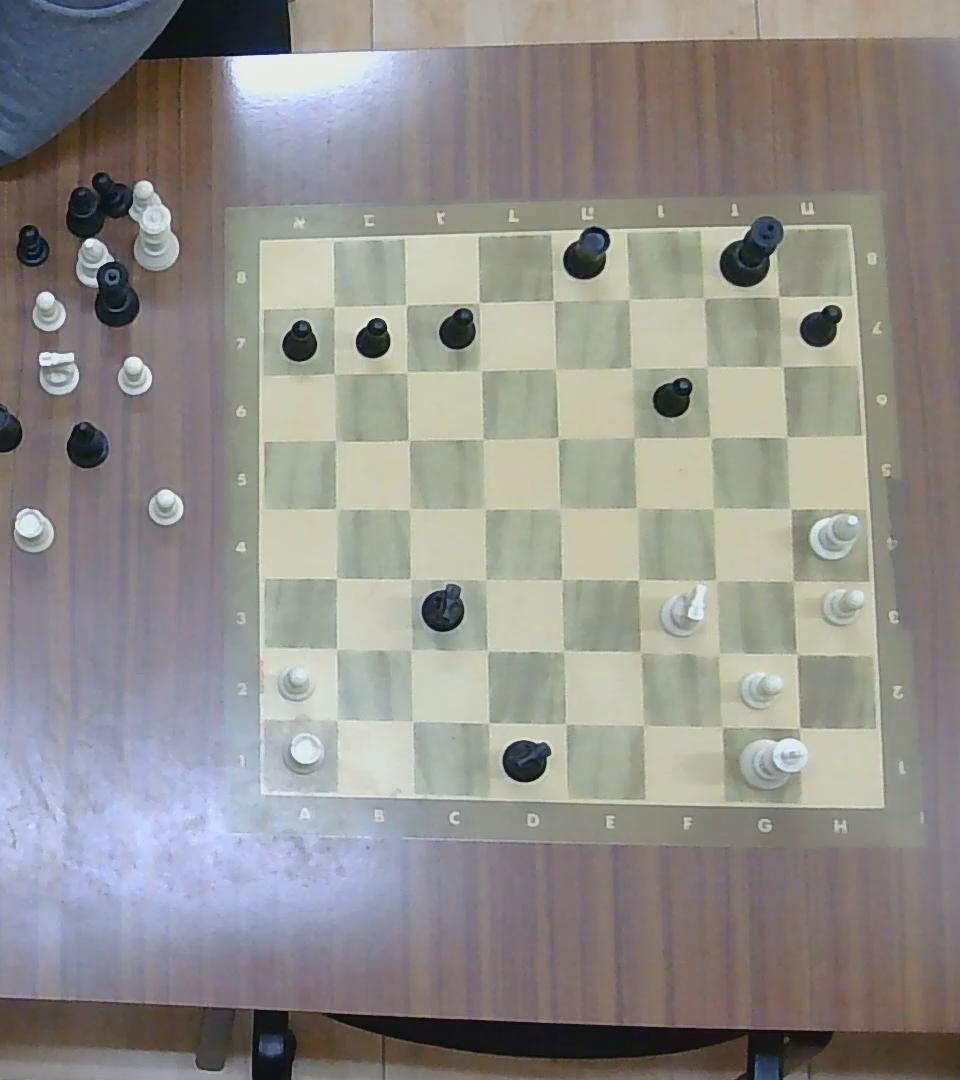xcorner: (781, 710, 815, 743), (701, 636, 735, 669), (705, 708, 736, 742), (626, 707, 657, 740), (625, 635, 656, 667), (780, 637, 812, 668), (472, 706, 503, 737), (320, 703, 351, 734), (548, 707, 580, 737), (622, 563, 652, 594), (396, 705, 427, 735), (698, 492, 728, 523), (776, 565, 807, 595), (548, 636, 578, 666), (700, 565, 730, 595), (547, 563, 576, 594), (472, 634, 501, 664), (776, 493, 806, 522), (395, 635, 424, 664), (622, 493, 651, 522), (321, 562, 350, 591), (321, 633, 350, 662), (471, 564, 500, 593), (545, 493, 573, 522), (471, 493, 499, 522), (545, 422, 573, 451), (617, 352, 646, 380), (323, 495, 351, 523), (396, 493, 423, 522), (468, 424, 495, 452), (542, 354, 570, 381), (693, 352, 721, 379), (615, 285, 643, 312), (621, 423, 648, 450), (396, 565, 423, 592), (772, 422, 800, 448), (467, 354, 493, 381), (692, 285, 719, 311), (395, 426, 423, 451), (323, 427, 349, 453), (697, 422, 723, 448), (540, 287, 566, 313), (393, 358, 419, 383), (323, 360, 348, 385), (466, 289, 491, 314), (393, 291, 419, 315), (767, 283, 791, 307), (772, 354, 794, 377), (323, 294, 345, 316)
